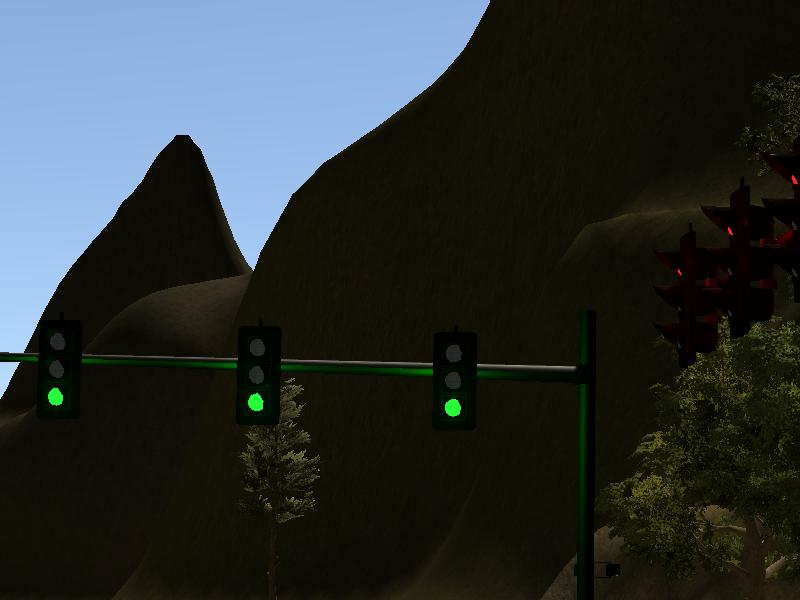Green: (235, 328, 280, 425), (39, 321, 77, 415), (437, 333, 470, 428)
